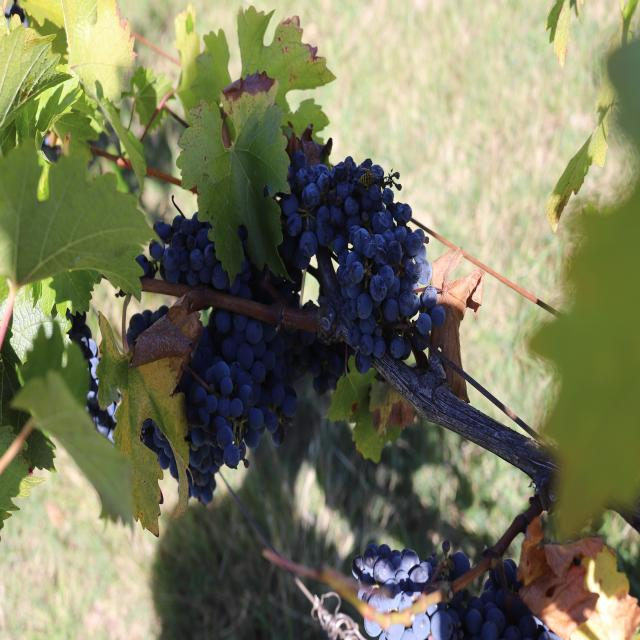grapes: (281, 150, 445, 374), (179, 311, 345, 504), (364, 558, 549, 640), (139, 212, 262, 300), (352, 541, 470, 613), (141, 420, 179, 478)
